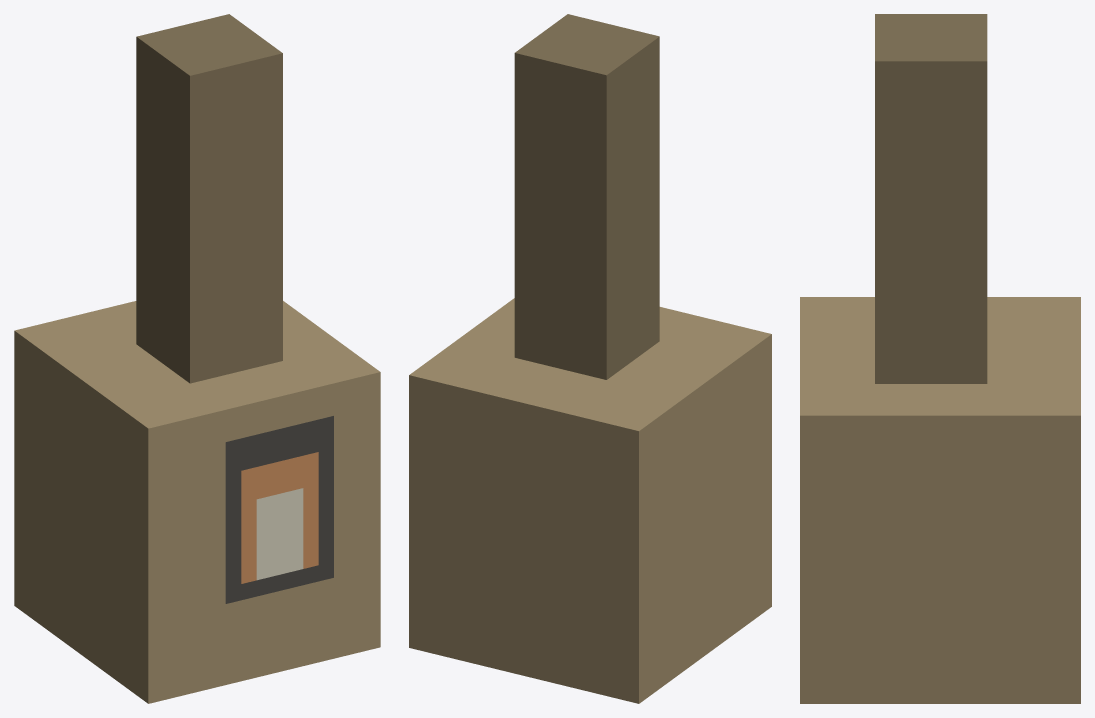
File: fragua_bronce_01.glb
3 views of the same model, side by side, from view 1: azimuth 30°, elevation 25°; view 2: azimuth 150°, elevation 25°; view 3: azimuth 270°, elevation 25° (orthographic). The views are drawn at different scales.
Parts seen in each view (by area): view 1: fragua_bronce; view 2: fragua_bronce; view 3: fragua_bronce.
Part boxes in pixels (x1=…): fragua_bronce: x1=14, y1=14, x2=380, y2=703; fragua_bronce: x1=409, y1=14, x2=771, y2=703; fragua_bronce: x1=800, y1=14, x2=1080, y2=703.
Size of the model in its own units: 1 by 2.4 by 1.
